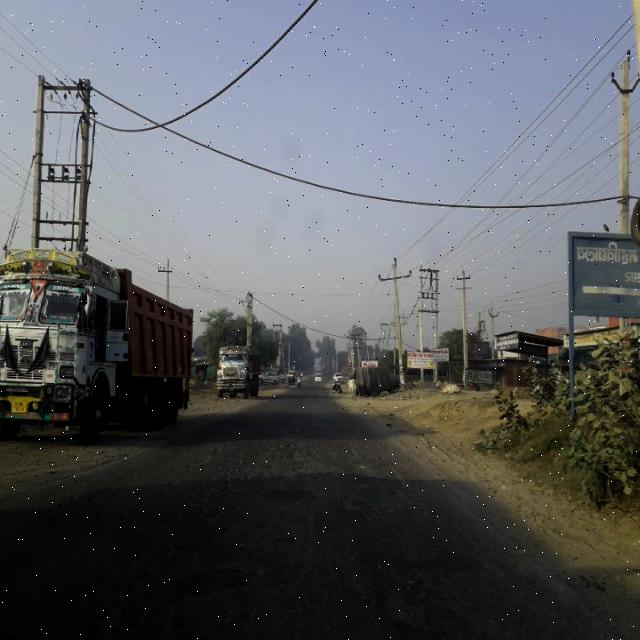D20: (1, 446, 517, 635)
